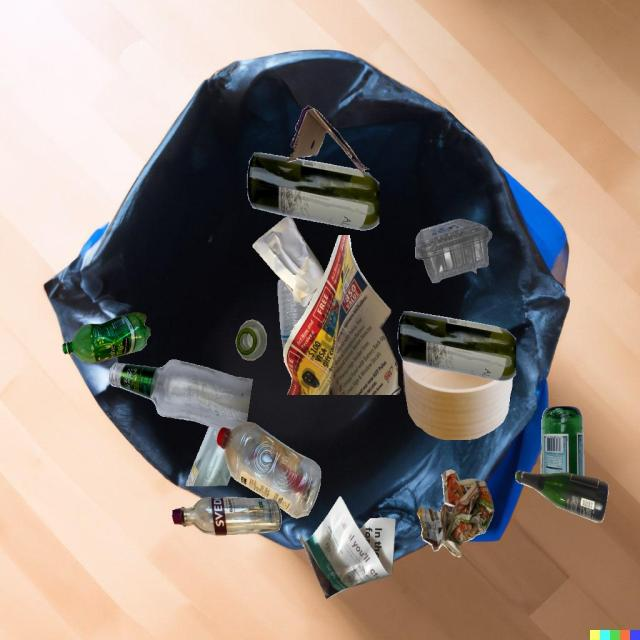cardboard: (287, 105, 370, 173)
combustible waste: (402, 361, 513, 440)
glass: (247, 153, 380, 231), (109, 359, 253, 430), (398, 311, 517, 381), (515, 471, 608, 522), (172, 497, 281, 536), (541, 406, 584, 476), (186, 426, 231, 486), (236, 319, 267, 360)
paper: (283, 235, 401, 395), (300, 496, 395, 599), (417, 469, 494, 557), (252, 216, 325, 307)
plastic: (217, 422, 321, 518), (415, 219, 492, 283), (62, 313, 151, 363), (277, 279, 308, 351)
